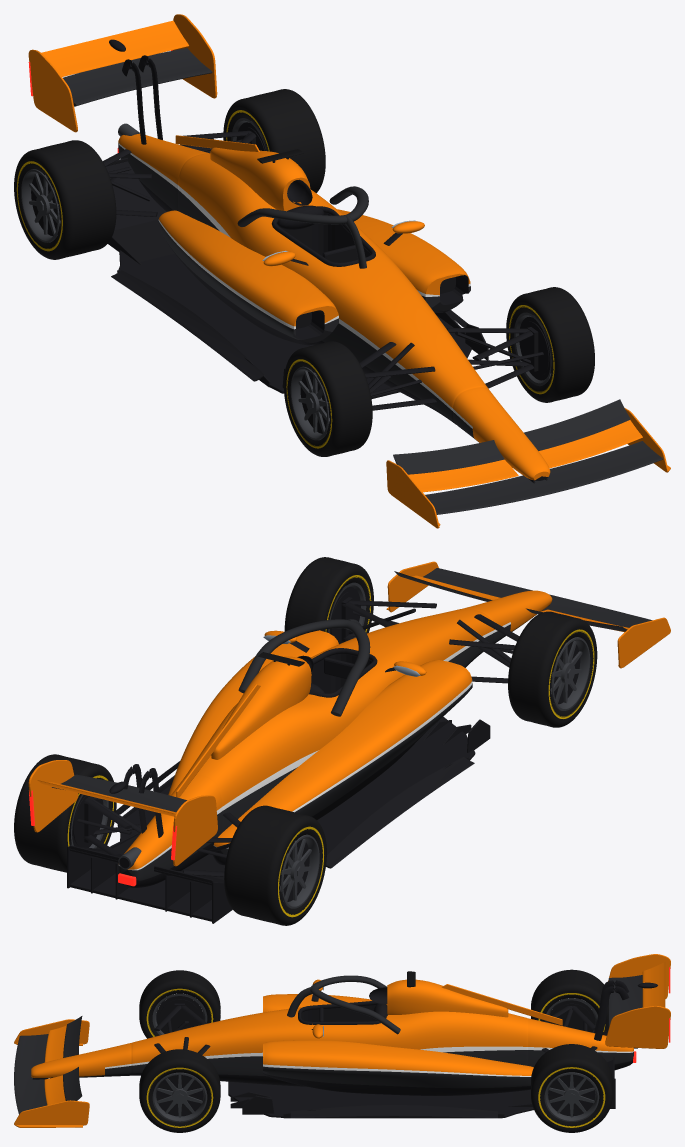
Rendered from car_2026.glb.
3 renders of one model, top to bottom at view 1: azimuth 30°, elevation 25°; view 2: azimuth 150°, elevation 25°; view 3: azimuth 270°, elevation 25°, orthographic. The views are drawn at different scales.
Visible parts, largest first — view 1: body, wheel_rr, wheel_fr, wheel_fl, wheel_rl; view 2: body, wheel_rr, wheel_fr, wheel_rl, wheel_fl; view 3: body, wheel_rl, wheel_fl, wheel_fr, wheel_rr.
Part boxes in pixels (x1=…): body: x1=28, y1=14, x2=670, y2=528; wheel_rr: x1=14, y1=140, x2=116, y2=259; wheel_fr: x1=283, y1=341, x2=372, y2=456; wheel_fl: x1=506, y1=287, x2=594, y2=402; wheel_rl: x1=223, y1=89, x2=325, y2=192; body: x1=28, y1=561, x2=670, y2=923; wheel_rr: x1=224, y1=805, x2=326, y2=925; wheel_fr: x1=508, y1=611, x2=597, y2=727; wheel_rl: x1=14, y1=754, x2=116, y2=872; wheel_fl: x1=284, y1=557, x2=373, y2=637; body: x1=14, y1=954, x2=670, y2=1127; wheel_rl: x1=531, y1=1044, x2=612, y2=1132; wheel_fl: x1=139, y1=1049, x2=220, y2=1132; wheel_fr: x1=139, y1=970, x2=220, y2=1038; wheel_rr: x1=531, y1=969, x2=608, y2=1032.
Bounding box in the file's own units: 1.9 × 1.05 × 5.7.
